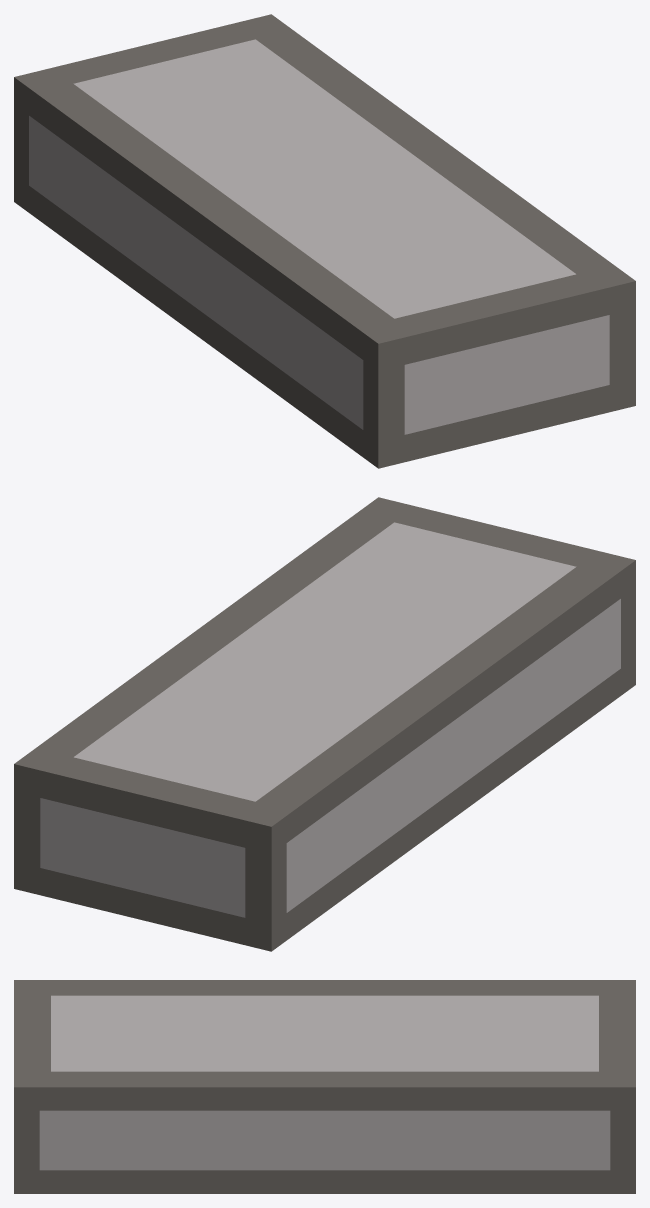
File: roof adorn2.FBX
The picture shows the model from 3 angles, top to bottom: view 1: azimuth 30°, elevation 25°; view 2: azimuth 150°, elevation 25°; view 3: azimuth 270°, elevation 25°; orthographic projection. The views are drawn at different scales.
Visible parts, largest first — view 1: roof adorn2; view 2: roof adorn2; view 3: roof adorn2.
Part boxes in pixels (left/top/right/bottom): roof adorn2: left=14, top=14, right=635, bottom=468; roof adorn2: left=14, top=497, right=635, bottom=951; roof adorn2: left=14, top=980, right=635, bottom=1193.
Size of the model in its own units: 1.97 by 0.9109 by 4.82.
